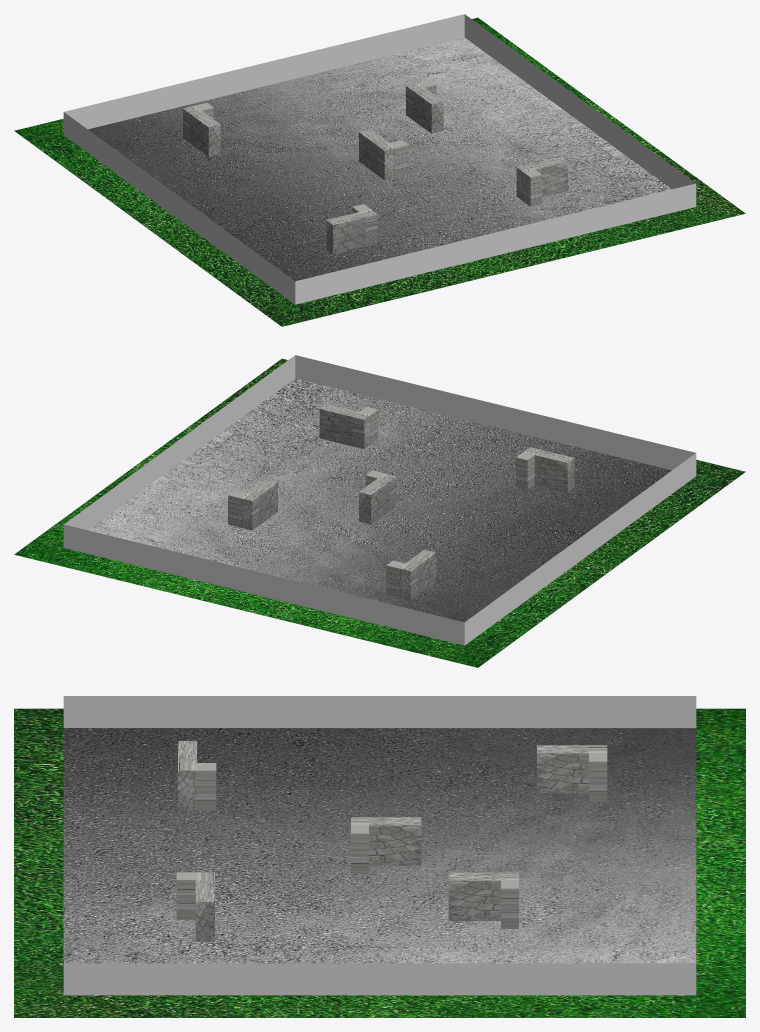
File: mapa.glb
The picture shows the model from 3 angles, top to bottom: view 1: azimuth 30°, elevation 25°; view 2: azimuth 150°, elevation 25°; view 3: azimuth 270°, elevation 25°; orthographic projection. The views are drawn at different scales.
Visible parts, largest first — view 1: Plane, Plane.001, Cube.004, Cube.003, Cube, Cube.001, Cube.005; view 2: Plane, Plane.001, Cube.004, Cube.003, Cube.005, Cube.001, Cube; view 3: Plane, Plane.001, Cube.005, Cube, Cube.001, Cube.003, Cube.004.
Part boxes in pixels (x1,y1,x2,y2): Plane: (63,14,696,304); Plane.001: (14,17,745,326); Cube.004: (516,156,568,206); Cube.003: (326,204,377,254); Cube: (359,129,408,180); Cube.001: (406,80,443,133); Cube.005: (183,102,220,156); Plane: (63,355,696,645); Plane.001: (14,358,745,667); Cube.004: (319,404,378,448); Cube.003: (516,447,574,492); Cube.005: (386,549,436,600); Cube.001: (228,479,277,530); Cube: (359,470,396,524); Plane: (63,696,696,995); Plane.001: (14,708,745,1017); Cube.005: (537,745,607,801); Cube: (351,817,421,873); Cube.001: (448,872,518,928); Cube.003: (178,741,216,810); Cube.004: (176,872,214,941).
Size of the model in its own units: 41.52 by 2.62 by 41.52.
Materials: 4 (3 with a texture image).
